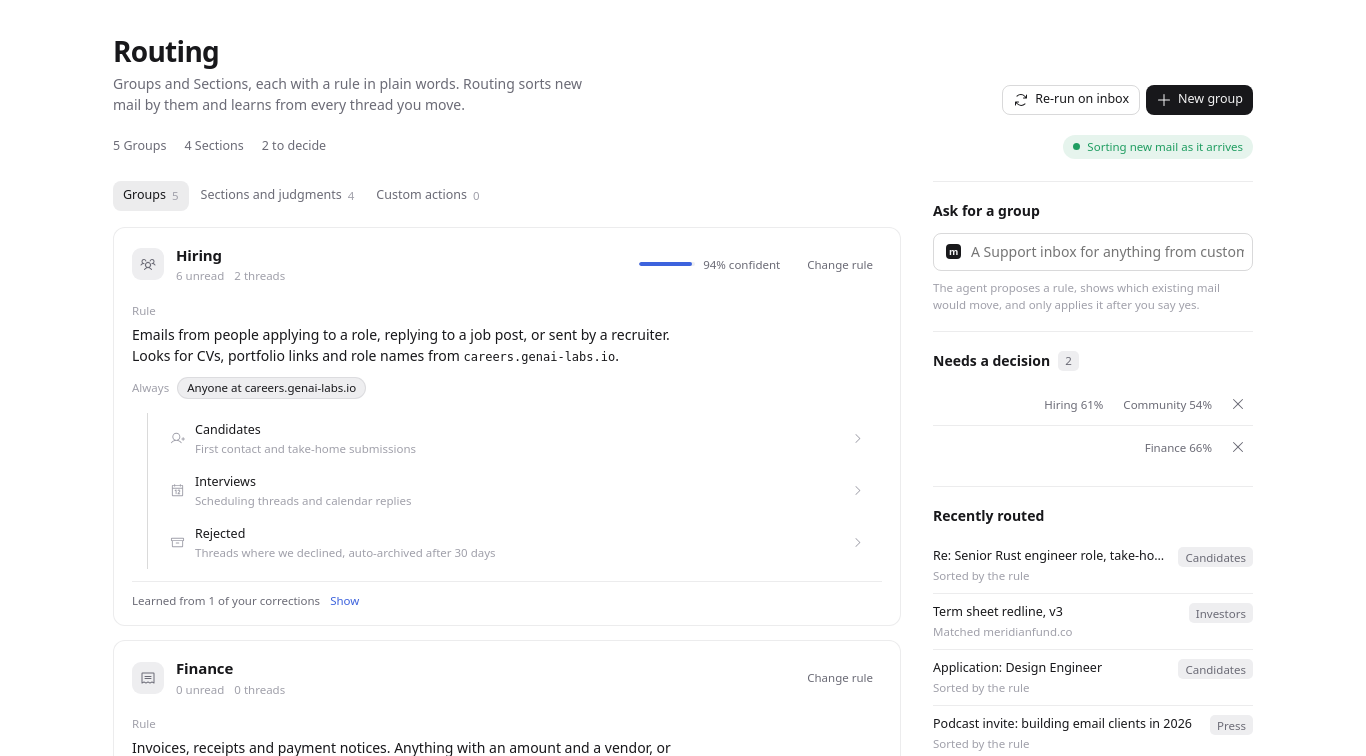
Routing page › renders each Group as a card: its rule, what always goes there, Sub-groups, Confidence and corrections
This screenshot has width=1366, height=756.
Check: the text with class "rgrp-conf-label" reads "94% confident", box [703,256,780,272]
Check: the text "careers.genai-labs.io" is shown, box [464,350,615,364]
Click the button "Show" at (345,601), box [330,592,359,609]
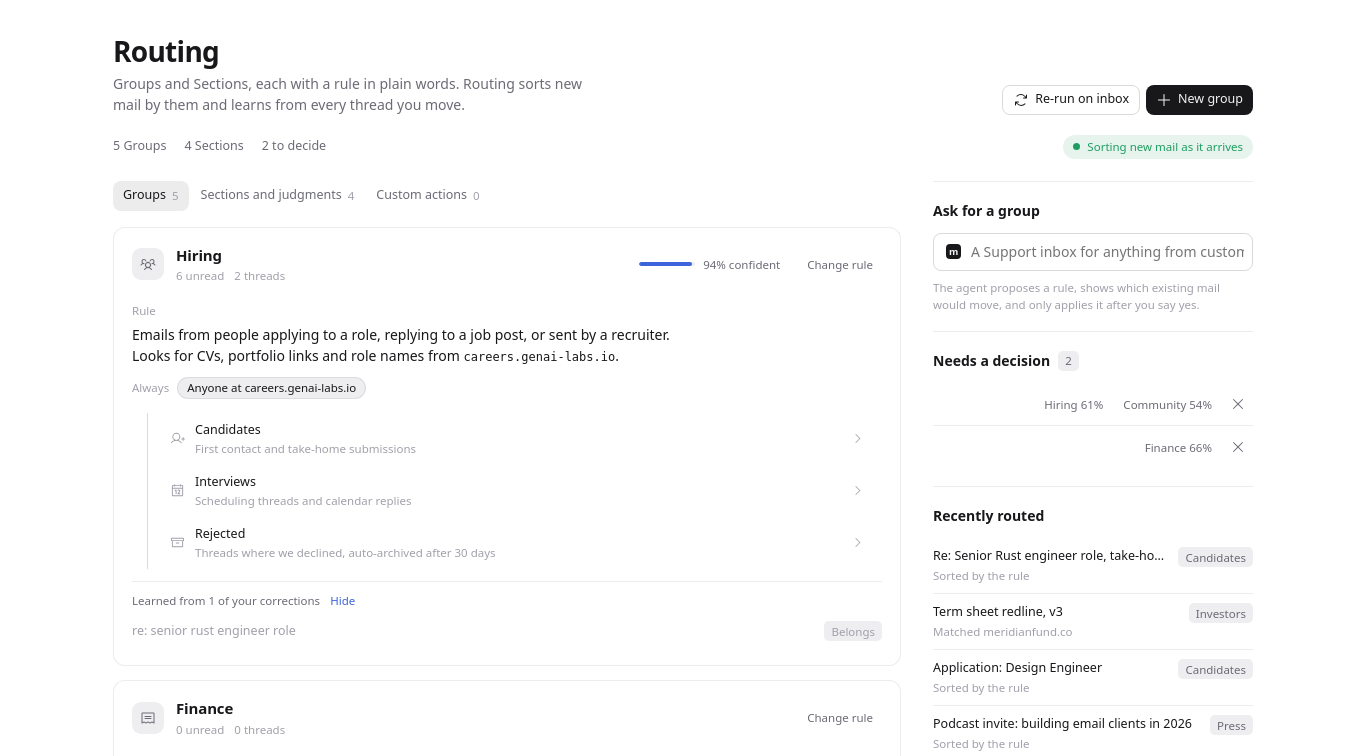
Check: the element with class "rt-stats" shows "5 Groups", box [113,137,166,154]
Check: the element with class "sample" shows "re: senior rust engineer role", box [132,622,296,639]
